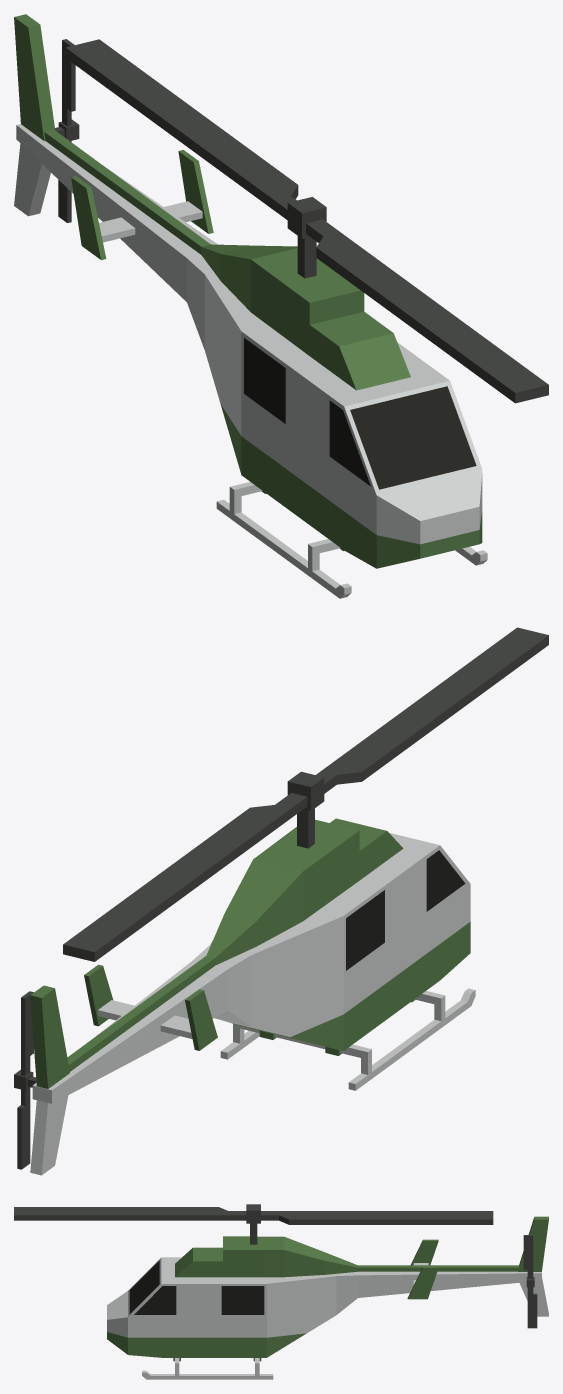
File: Veh_Helicopter_01_Green.glb
The picture shows the model from 3 angles, top to bottom: view 1: azimuth 30°, elevation 25°; view 2: azimuth 150°, elevation 25°; view 3: azimuth 270°, elevation 25°; orthographic projection. The views are drawn at different scales.
Visible parts, largest first — view 1: Veh_Helicopter_01_Green, Rotor_Main, Rotor_Tail; view 2: Veh_Helicopter_01_Green, Rotor_Main, Rotor_Tail; view 3: Veh_Helicopter_01_Green, Rotor_Main, Rotor_Tail.
Boxes of the visible parts, left/top/right/bottom form: Veh_Helicopter_01_Green: left=14, top=14, right=487, bottom=598; Rotor_Main: left=65, top=39, right=548, bottom=403; Rotor_Tail: left=55, top=39, right=79, bottom=222; Veh_Helicopter_01_Green: left=30, top=818, right=475, bottom=1175; Rotor_Main: left=63, top=627, right=548, bottom=961; Rotor_Tail: left=14, top=991, right=36, bottom=1169; Veh_Helicopter_01_Green: left=107, top=1216, right=548, bottom=1379; Rotor_Main: left=14, top=1204, right=493, bottom=1244; Rotor_Tail: left=523, top=1235, right=537, bottom=1328.
Bounding box in the file's own units: 1.02 × 2.05 × 6.44.
Materials: 1 (1 with a texture image).
